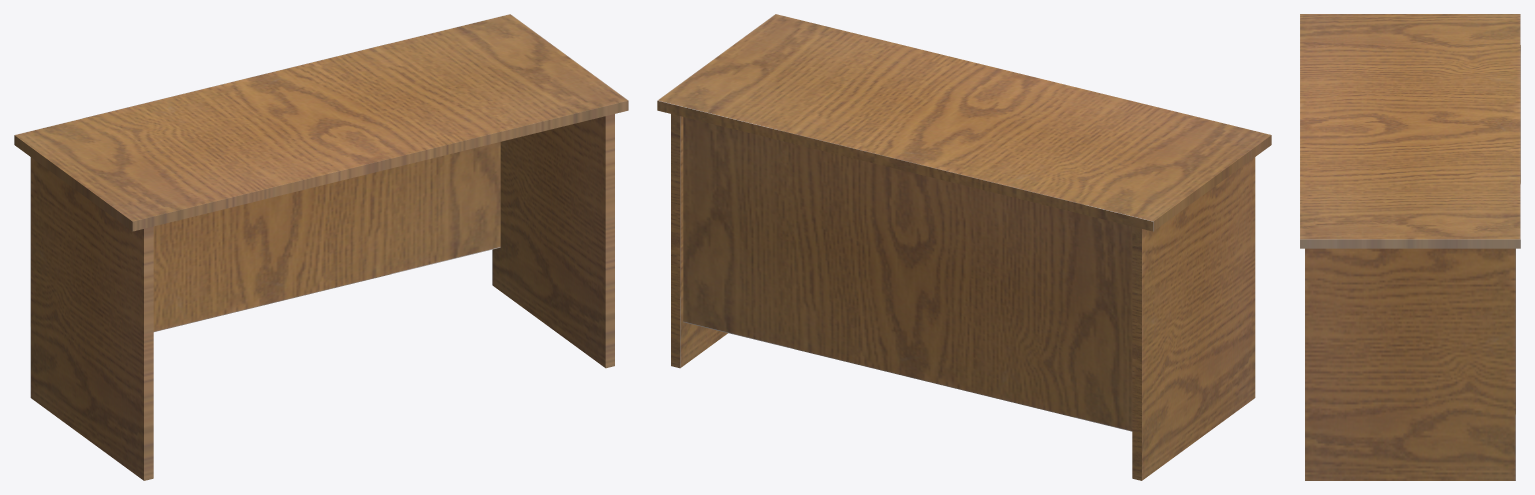
File: office desk.fbx
3 views of the same model, side by side, from view 1: azimuth 30°, elevation 25°; view 2: azimuth 150°, elevation 25°; view 3: azimuth 270°, elevation 25° (orthographic). The views are drawn at different scales.
Parts seen in each view (by area): view 1: Cube.002; view 2: Cube.002; view 3: Cube.002.
Part boxes in pixels (left/top/right/bottom): Cube.002: left=14, top=14, right=628, bottom=480; Cube.002: left=657, top=14, right=1271, bottom=480; Cube.002: left=1300, top=14, right=1520, bottom=480.
Bounding box in the file's own units: 667 × 340 × 276.
